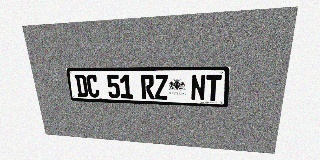1: (119, 75, 133, 99)
5: (106, 74, 121, 98)
C: (86, 74, 100, 98)
D: (74, 74, 88, 97)
N: (191, 75, 206, 101)
R: (141, 75, 155, 99)
T: (205, 75, 222, 101)
Z: (154, 75, 168, 100)
